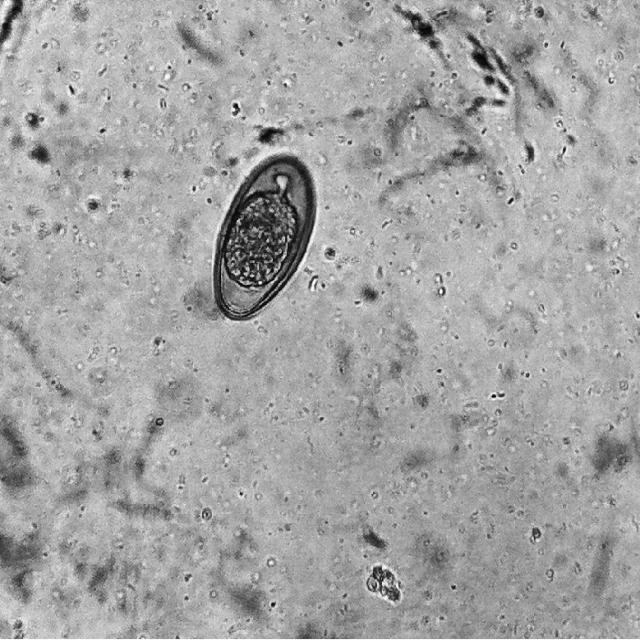Enterobius Vermicularis: (202, 147, 319, 319)
